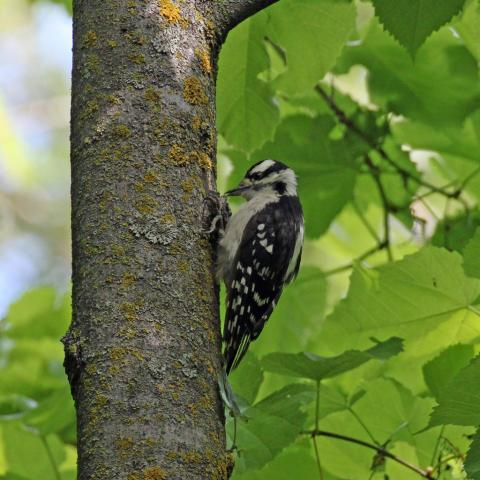bird: (195, 158, 305, 390)
